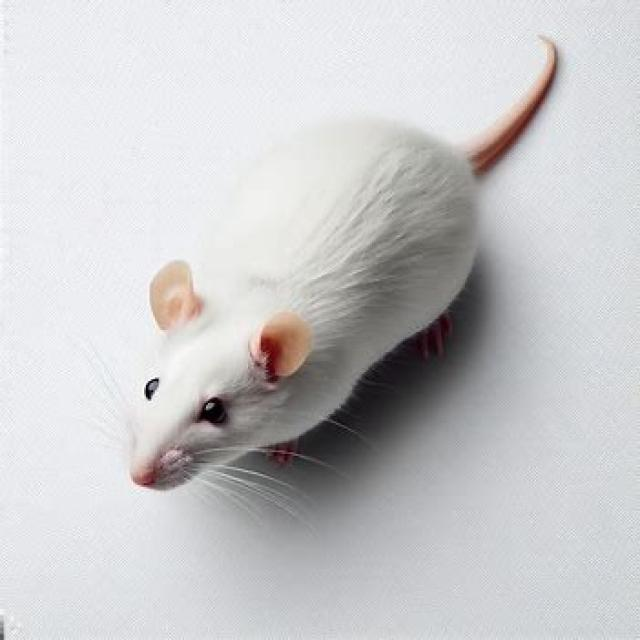rodent: (105, 103, 492, 522)
